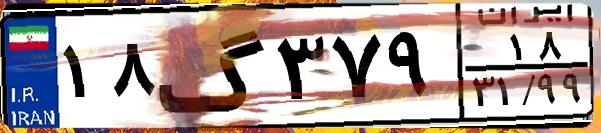1: (57, 26, 110, 100), (508, 27, 537, 80), (495, 70, 520, 125)
3: (270, 28, 330, 110), (470, 70, 495, 125)
7: (330, 28, 385, 110)
8: (110, 28, 156, 98), (537, 27, 568, 80)
9: (385, 28, 445, 110), (560, 70, 590, 125), (535, 70, 560, 125)
گ: (156, 12, 270, 120)
